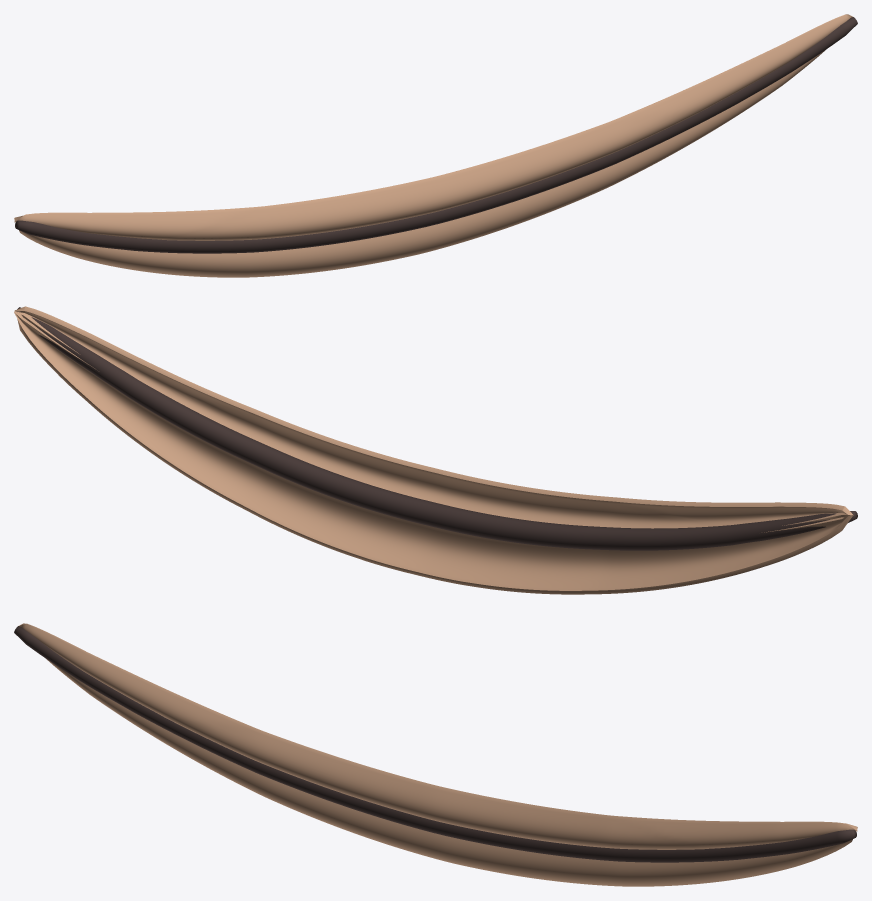
File: Feminine-mouth-lips.glb
3 views of the same model, one above another, from view 1: azimuth 30°, elevation 25°; view 2: azimuth 150°, elevation 25°; view 3: azimuth 330°, elevation 25° (orthographic).
Visible parts, largest first — view 1: Face / soft lip 1, Face / soft lip -1, Face / lip seam; view 2: Face / soft lip -1, Face / soft lip 1, Face / lip seam; view 3: Face / soft lip 1, Face / soft lip -1, Face / lip seam.
Boxes of the visible parts, bbox=[...] form: Face / soft lip 1: bbox=[14, 14, 852, 240]; Face / soft lip -1: bbox=[14, 50, 825, 277]; Face / lip seam: bbox=[15, 17, 857, 253]; Face / soft lip -1: bbox=[14, 310, 853, 594]; Face / soft lip 1: bbox=[14, 306, 853, 528]; Face / lip seam: bbox=[17, 307, 857, 550]; Face / soft lip 1: bbox=[19, 623, 857, 849]; Face / soft lip -1: bbox=[19, 625, 857, 886]; Face / lip seam: bbox=[14, 626, 856, 862].
Size of the model in its own units: 0.1288 by 0.0226 by 0.00704.
